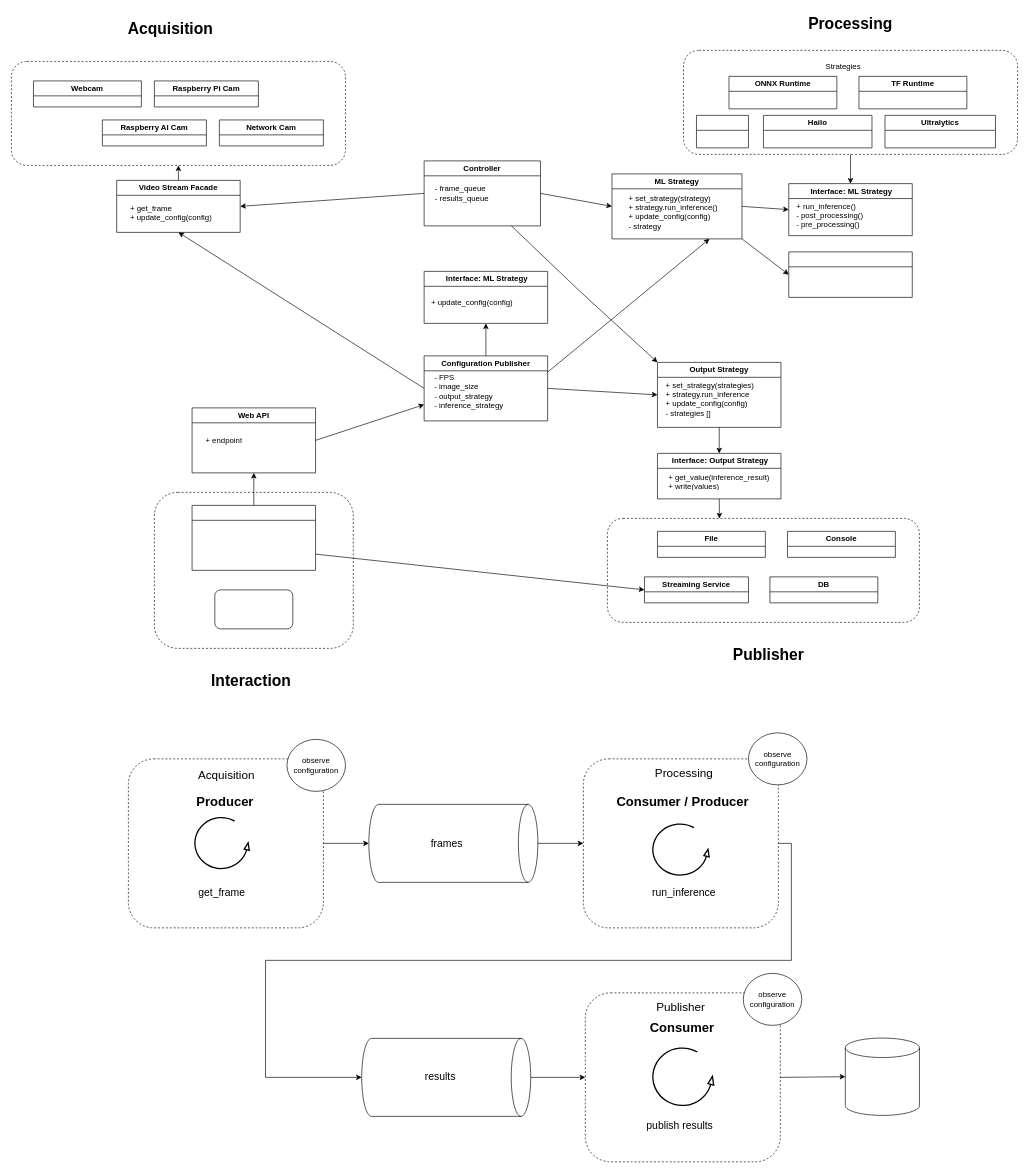
The diagram is 1029 pixels wide and 1173 high, and some of its shapes have lost their labels. Each missing label, with the centre of its shape:
"AI-Cam" belongs at pixel 722 131.
"Annotation Service" belongs at pixel 850 274.
"Client" belongs at pixel 253 609.
"Frontend" belongs at pixel 253 537.
"output" belongs at pixel 882 1076.
